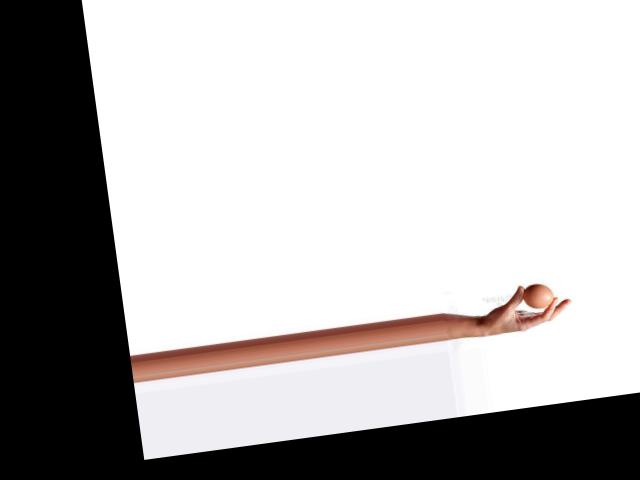egg: (520, 281, 554, 309)
